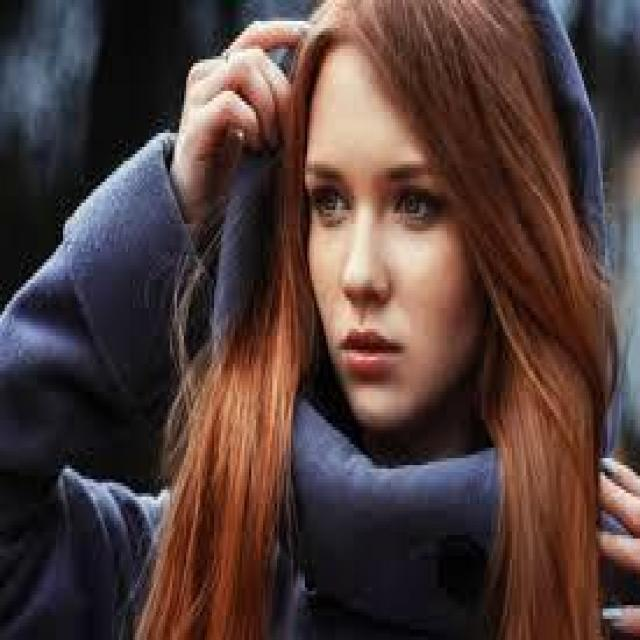person: (16, 0, 631, 637)
